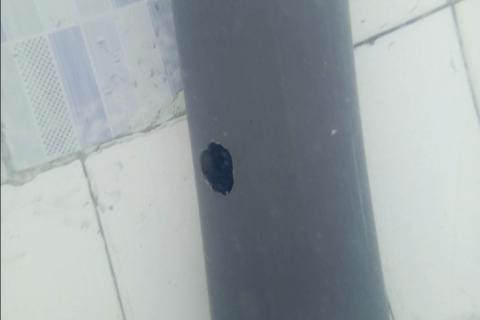kebocoran: (198, 139, 236, 197)
